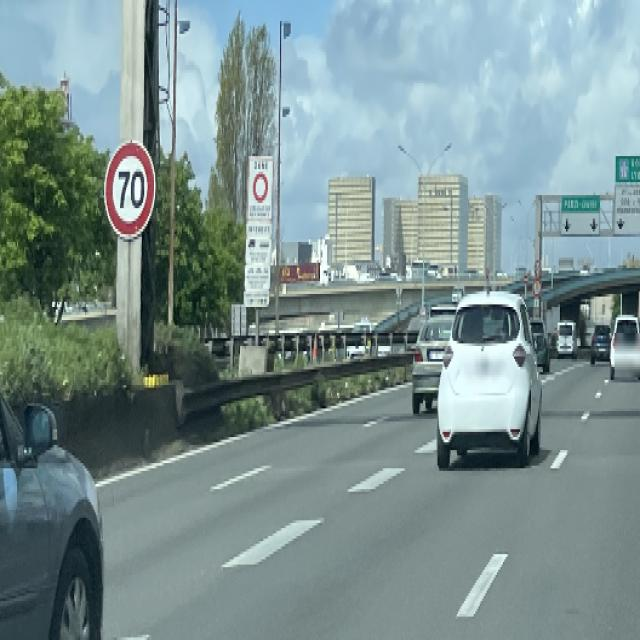speed_70: (106, 140, 157, 241)
